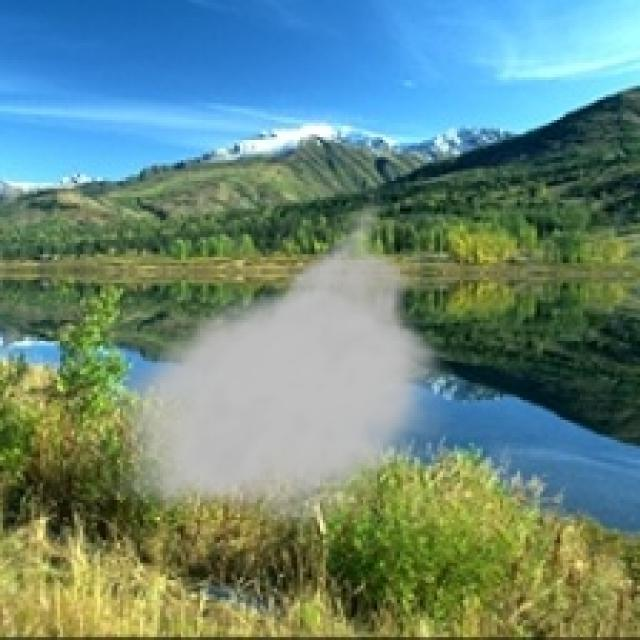Smoke: (97, 183, 454, 532)
